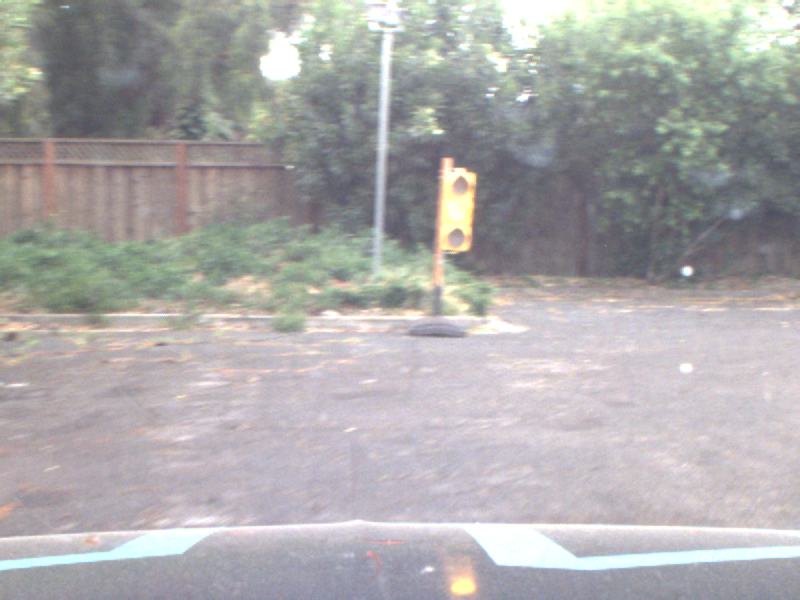Yellow: (443, 165, 474, 251)
